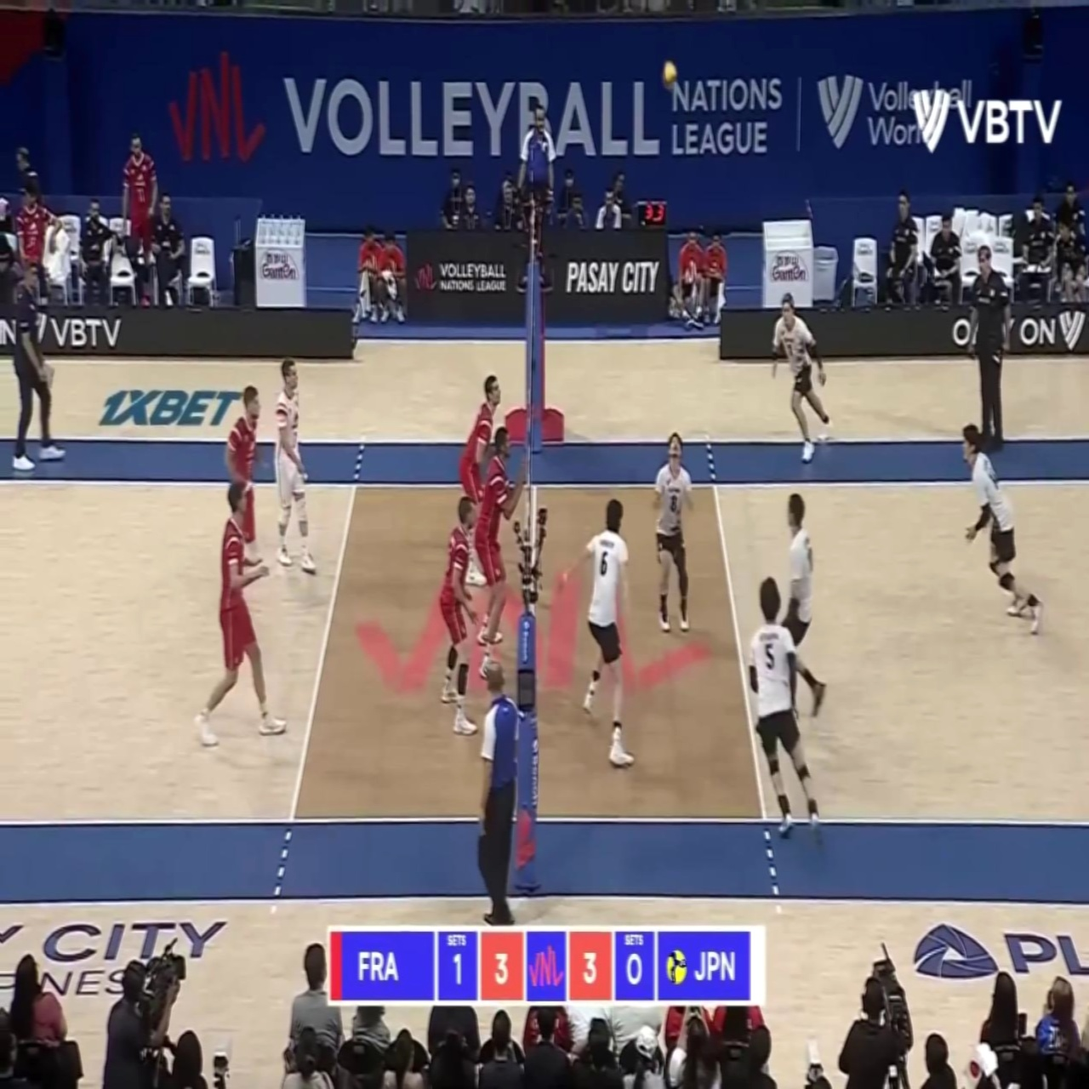ball: (661, 58, 675, 90)
